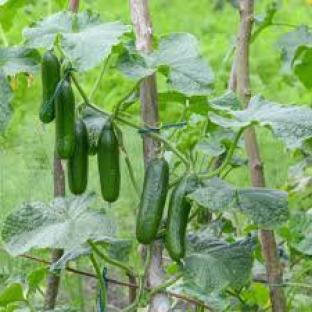Cucumber: (136, 159, 169, 244), (166, 177, 196, 262), (98, 120, 120, 202), (68, 120, 88, 195), (39, 52, 59, 123), (56, 81, 74, 159)
